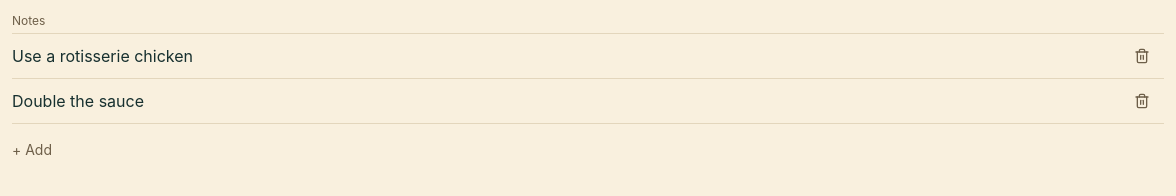
Test: NoteList › says 'Not deleted — try again' under the row when deleting fails
Click the button named "Remove note: Use a rotisserie chicken": click(1142, 56) 1120,34 -> 1164,78
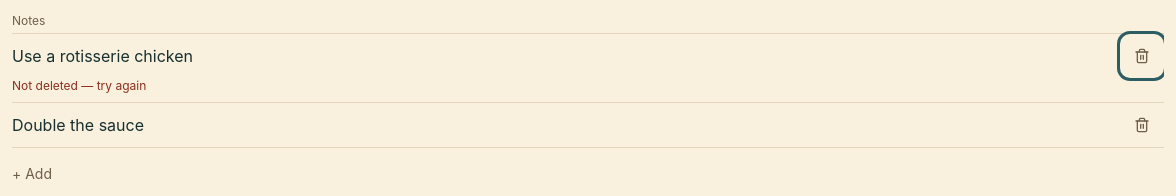
Expected: the button "Use a rotisserie chicken" is shown, 12,34 -> 1112,78
Now the message reads "Not deleted — try again", box 12,78 -> 146,93
